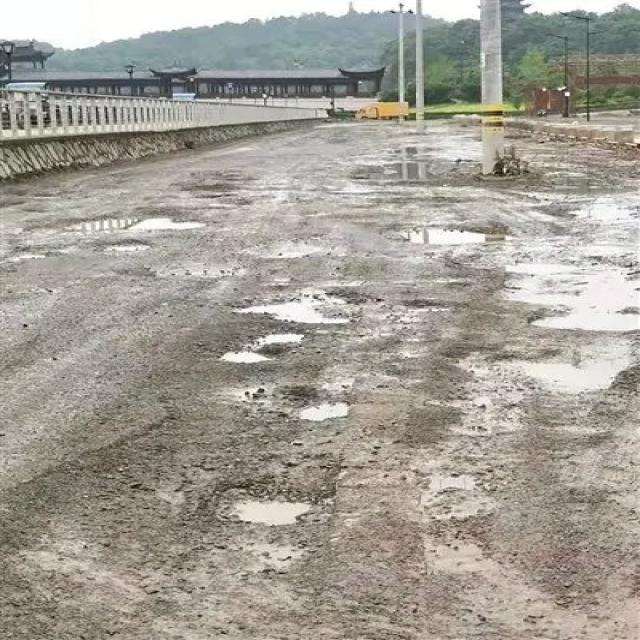Pothole: (210, 490, 328, 533), (208, 328, 317, 368), (245, 296, 362, 332), (275, 390, 373, 432), (384, 226, 534, 253), (126, 212, 210, 235)
